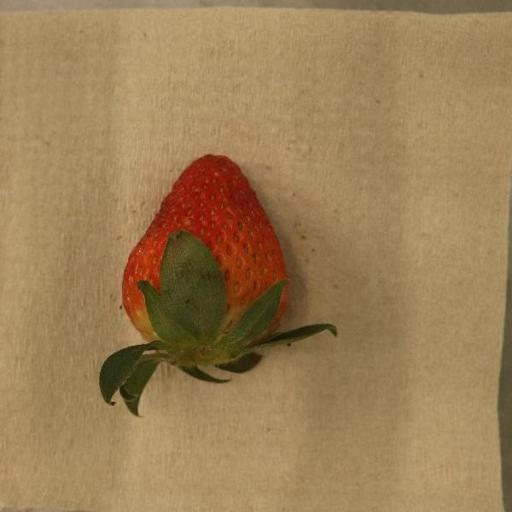Strawberry: (99, 154, 338, 418)
